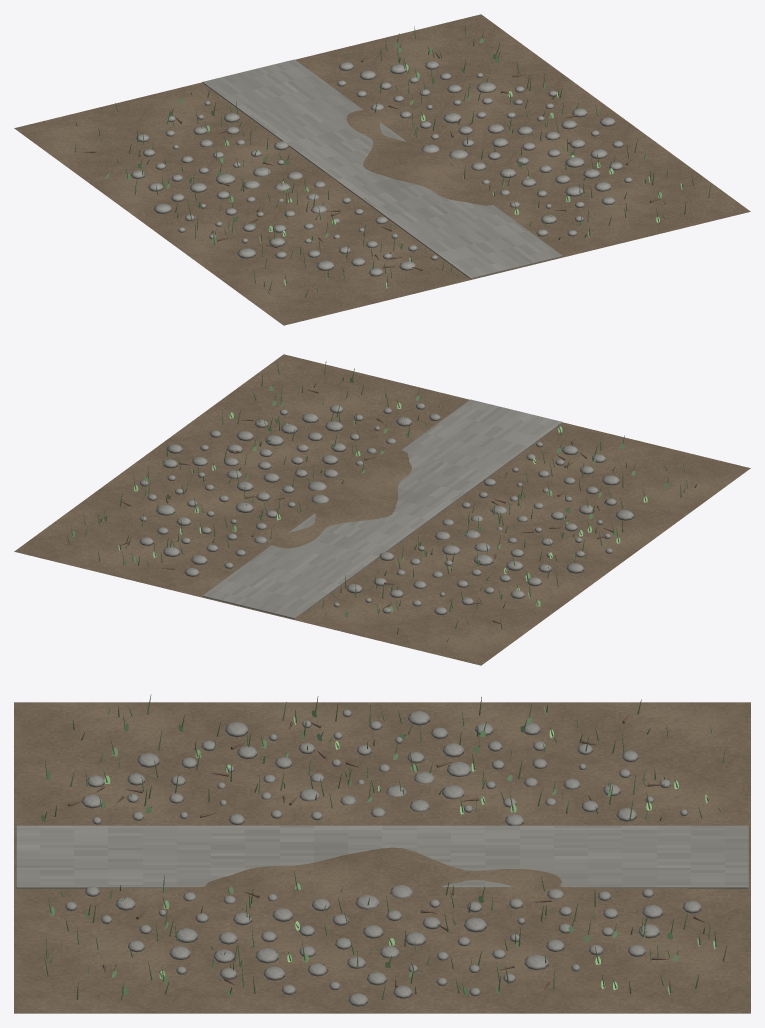
Rendered from forest_patch_dense01.glb.
3 renders of one model, top to bottom at view 1: azimuth 30°, elevation 25°; view 2: azimuth 150°, elevation 25°; view 3: azimuth 270°, elevation 25°, orthographic. The views are drawn at different scales.
Visible parts, largest first — view 1: terrain, path_surface, stones, grasses, leaf_litter, fallen_twigs; view 2: terrain, path_surface, stones, grasses, leaf_litter, fallen_twigs; view 3: terrain, path_surface, stones, grasses, leaf_litter, fallen_twigs.
Boxes of the visible parts, x1=… form: terrain: x1=14, y1=14, x2=750, y2=325; path_surface: x1=202, y1=59, x2=562, y2=278; stones: x1=131, y1=61, x2=632, y2=276; grasses: x1=75, y1=25, x2=710, y2=297; leaf_litter: x1=105, y1=38, x2=682, y2=288; fallen_twigs: x1=83, y1=52, x2=660, y2=270; terrain: x1=14, y1=354, x2=750, y2=665; path_surface: x1=202, y1=399, x2=562, y2=618; stones: x1=139, y1=403, x2=633, y2=614; grasses: x1=67, y1=361, x2=696, y2=642; leaf_litter: x1=71, y1=378, x2=668, y2=617; fallen_twigs: x1=120, y1=389, x2=613, y2=624; terrain: x1=14, y1=702, x2=750, y2=1013; path_surface: x1=16, y1=825, x2=748, y2=888; stones: x1=65, y1=709, x2=701, y2=1006; grasses: x1=44, y1=694, x2=726, y2=1000; leaf_litter: x1=41, y1=707, x2=715, y2=996; fallen_twigs: x1=68, y1=714, x2=704, y2=988.
Bounding box in the file's own units: 8 × 0.3117 × 8.
5 materials, 5 textured.
